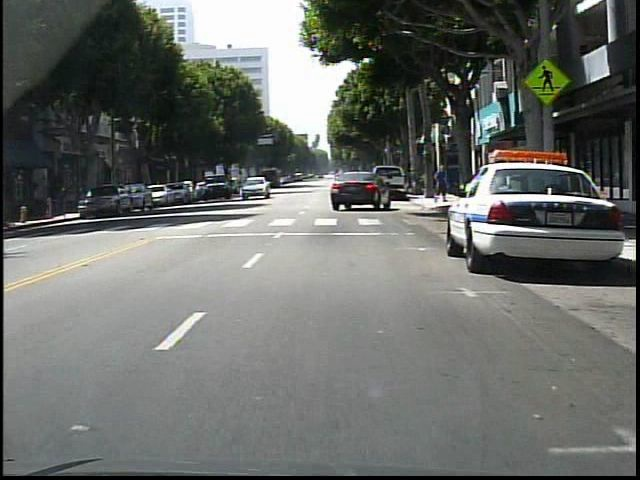person: (431, 162, 454, 207)
